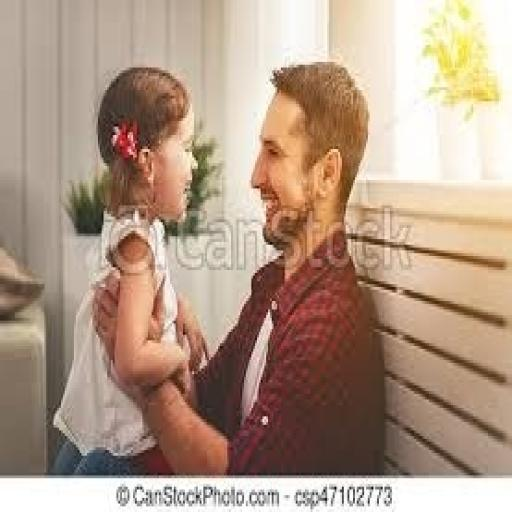hugging: (93, 56, 388, 476), (50, 62, 203, 475)
